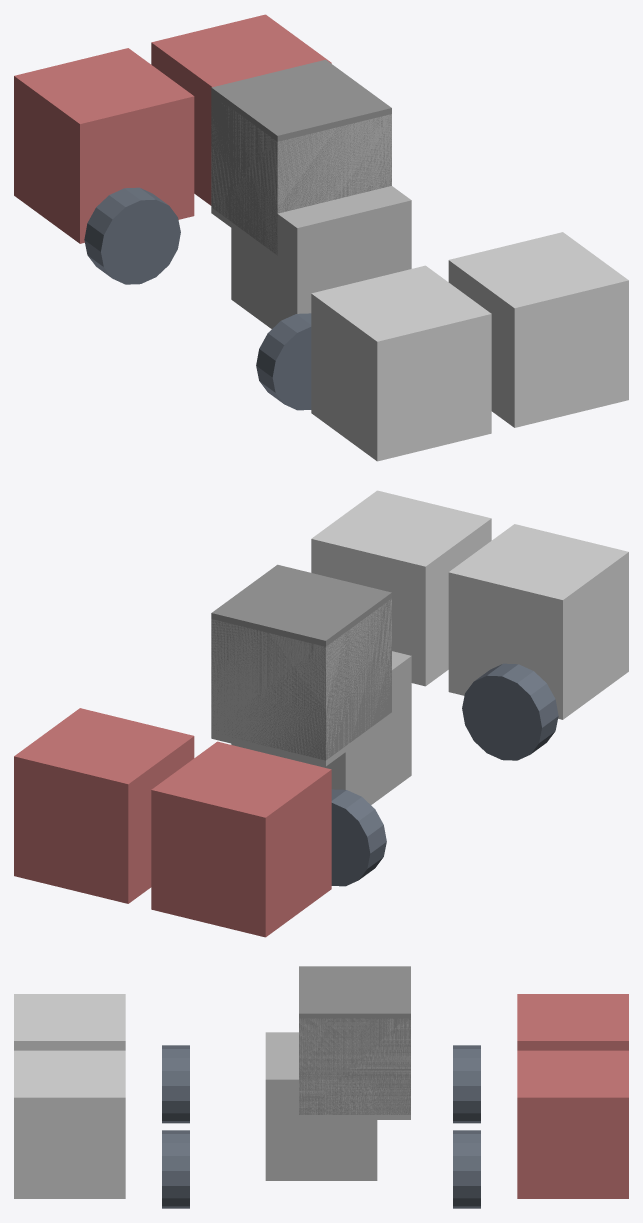
The model's file is veh_car_sedan_silver.glb.
3 renders of one model, top to bottom at view 1: azimuth 30°, elevation 25°; view 2: azimuth 150°, elevation 25°; view 3: azimuth 270°, elevation 25°, orthographic. The views are drawn at different scales.
Parts seen in each view (by area): view 1: world; view 2: world; view 3: world.
Part boxes in pixels (x1,y1,x2,y2): world: [14, 14, 628, 461]; world: [14, 490, 628, 937]; world: [14, 966, 628, 1208].
Bounding box in the file's own units: 2.5 × 1.7 × 5.5.
